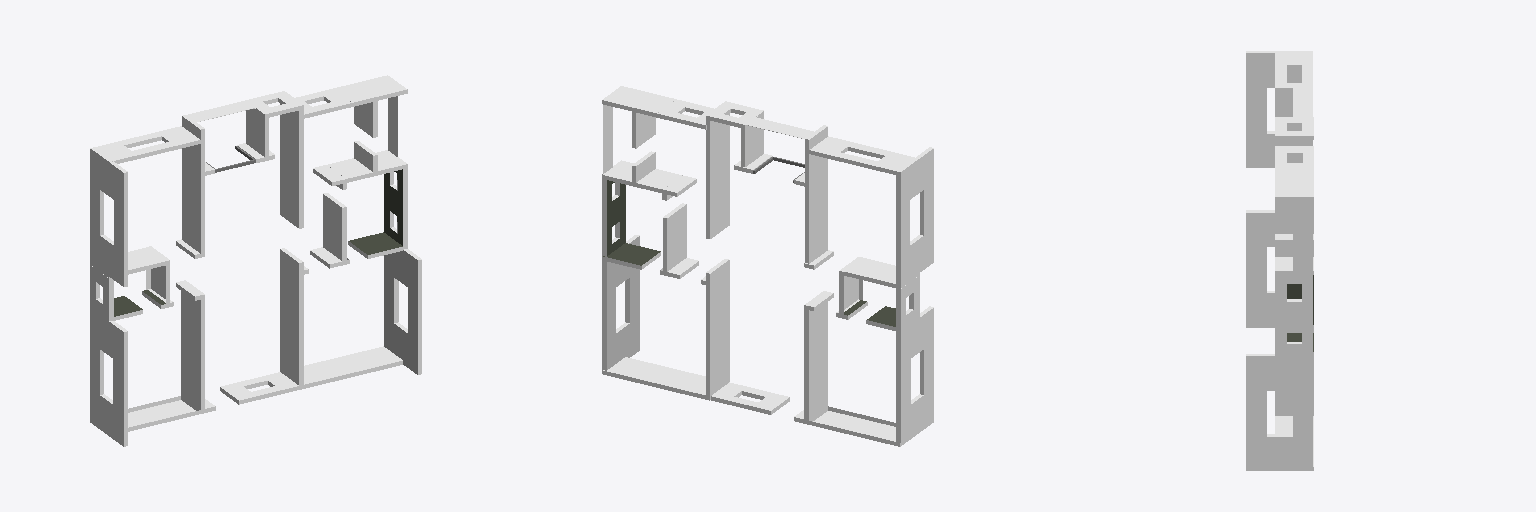
Rendered from pared.obj.
3 views of the same model, side by side, from view 1: azimuth 30°, elevation 25°; view 2: azimuth 150°, elevation 25°; view 3: azimuth 270°, elevation 25° (orthographic).
Visible parts, largest first — view 1: Object_11, Object_4, Object_42, Object_16, Object_53, Object_52, Object_41, Object_8, Object_44, Object_33, Object_31, Object_49 (+14 smaller); view 2: Object_11, Object_4, Object_42, Object_53, Object_52, Object_41, Object_16, Object_8, Object_33, Object_44, Object_31, Object_49 (+14 smaller); view 3: Object_17, Object_5, Object_12, Object_25, Object_171, Object_22, Object_55, Object_8, Object_29, Object_27, Object_52, Object_53 (+2 smaller).
Boxes of the visible parts, x1=… form: Object_11: x1=90, y1=308, x2=127, y2=446; Object_4: x1=90, y1=148, x2=127, y2=286; Object_42: x1=280, y1=248, x2=303, y2=389; Object_16: x1=384, y1=250, x2=417, y2=374; Object_53: x1=182, y1=115, x2=204, y2=253; Object_52: x1=280, y1=94, x2=303, y2=228; Object_41: x1=181, y1=291, x2=204, y2=413; Object_8: x1=91, y1=126, x2=200, y2=163; Object_44: x1=304, y1=346, x2=402, y2=384; Object_33: x1=128, y1=396, x2=200, y2=431; Object_31: x1=220, y1=372, x2=298, y2=404; Object_49: x1=323, y1=193, x2=346, y2=262; Object_11: x1=896, y1=306, x2=933, y2=445; Object_4: x1=896, y1=147, x2=933, y2=285; Object_42: x1=706, y1=259, x2=729, y2=400; Object_53: x1=805, y1=125, x2=827, y2=263; Object_52: x1=706, y1=105, x2=729, y2=238; Object_41: x1=804, y1=302, x2=827, y2=424; Object_16: x1=607, y1=236, x2=639, y2=369; Object_8: x1=807, y1=136, x2=919, y2=174; Object_33: x1=808, y1=406, x2=900, y2=446; Object_44: x1=603, y1=357, x2=705, y2=394; Object_31: x1=711, y1=382, x2=789, y2=414; Object_49: x1=663, y1=203, x2=686, y2=273; Object_17: x1=1246, y1=354, x2=1312, y2=470; Object_5: x1=1246, y1=53, x2=1301, y2=167; Object_12: x1=1246, y1=213, x2=1274, y2=327; Object_25: x1=1275, y1=269, x2=1312, y2=313; Object_171: x1=1293, y1=201, x2=1312, y2=270; Object_22: x1=1275, y1=314, x2=1312, y2=355; Object_55: x1=1275, y1=170, x2=1313, y2=200; Object_8: x1=1275, y1=51, x2=1312, y2=84; Object_29: x1=1275, y1=146, x2=1313, y2=169; Object_27: x1=1275, y1=117, x2=1313, y2=139; Object_52: x1=1275, y1=136, x2=1312, y2=233; Object_53: x1=1275, y1=85, x2=1312, y2=116.
Bounding box in the file's own units: 18.78 × 17.12 × 3.71.